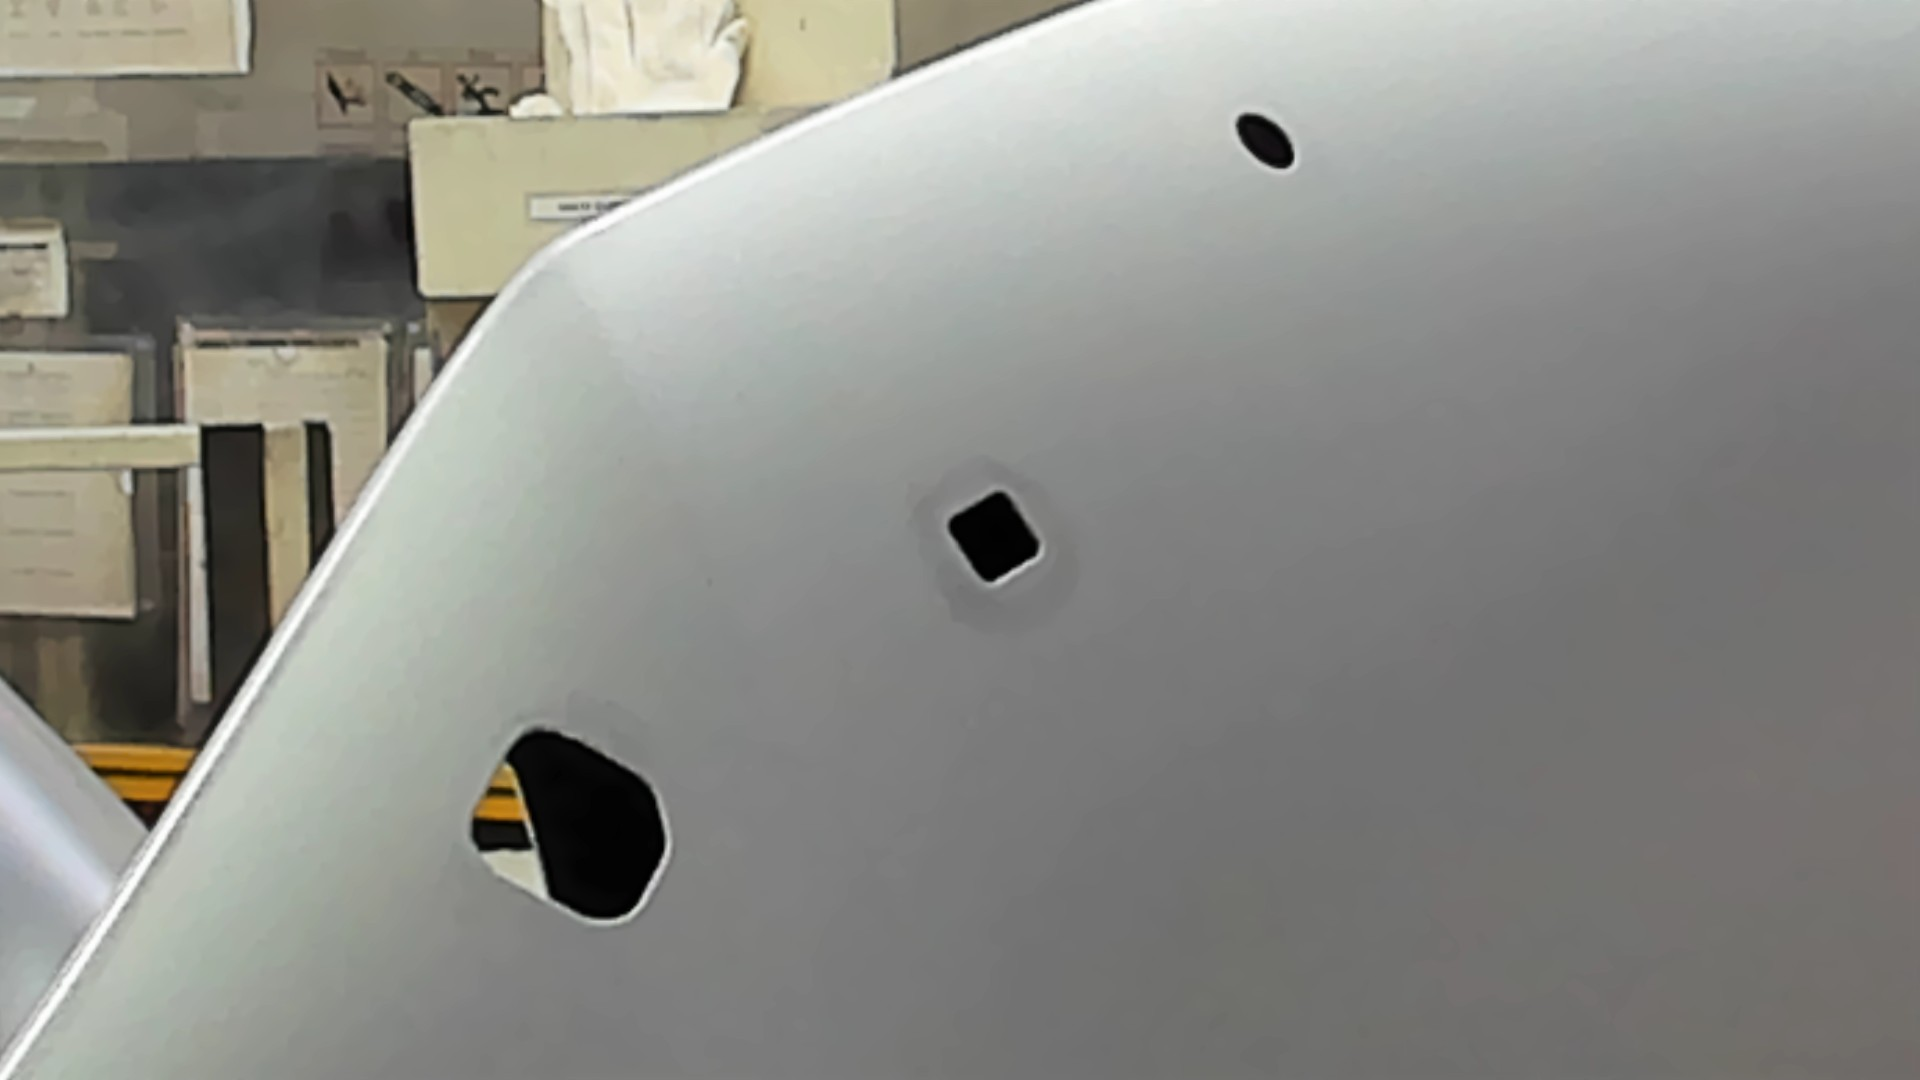chico: (1232, 105, 1302, 174)
grande: (462, 717, 675, 928)
mediano: (942, 483, 1052, 595)
